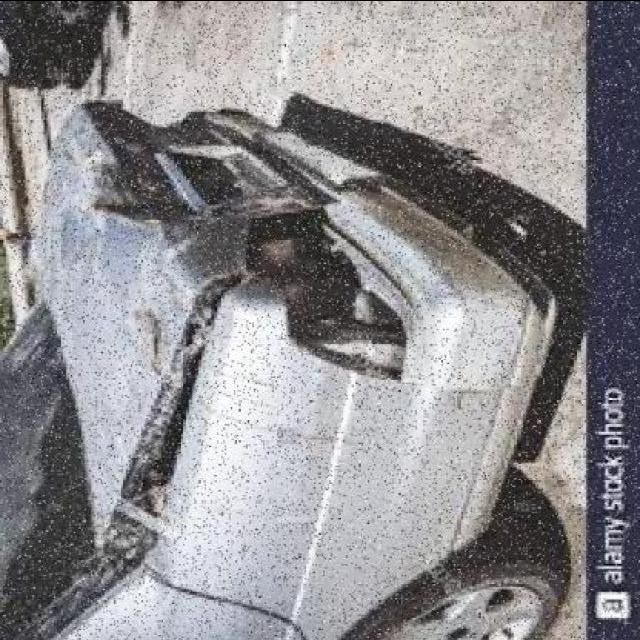quaterpanel-dent: (165, 374, 474, 640)
